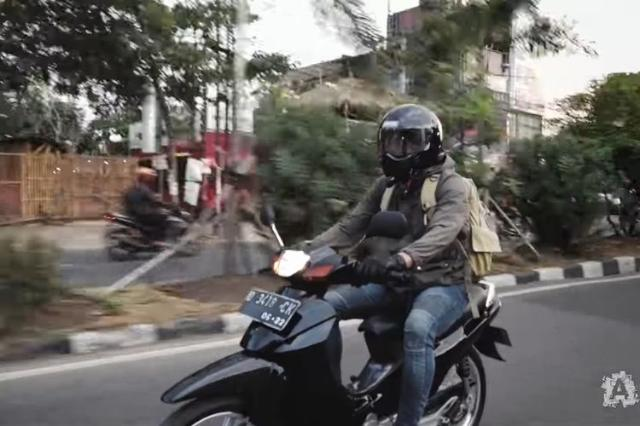helm: (378, 105, 449, 183)
motor: (162, 203, 517, 426)
